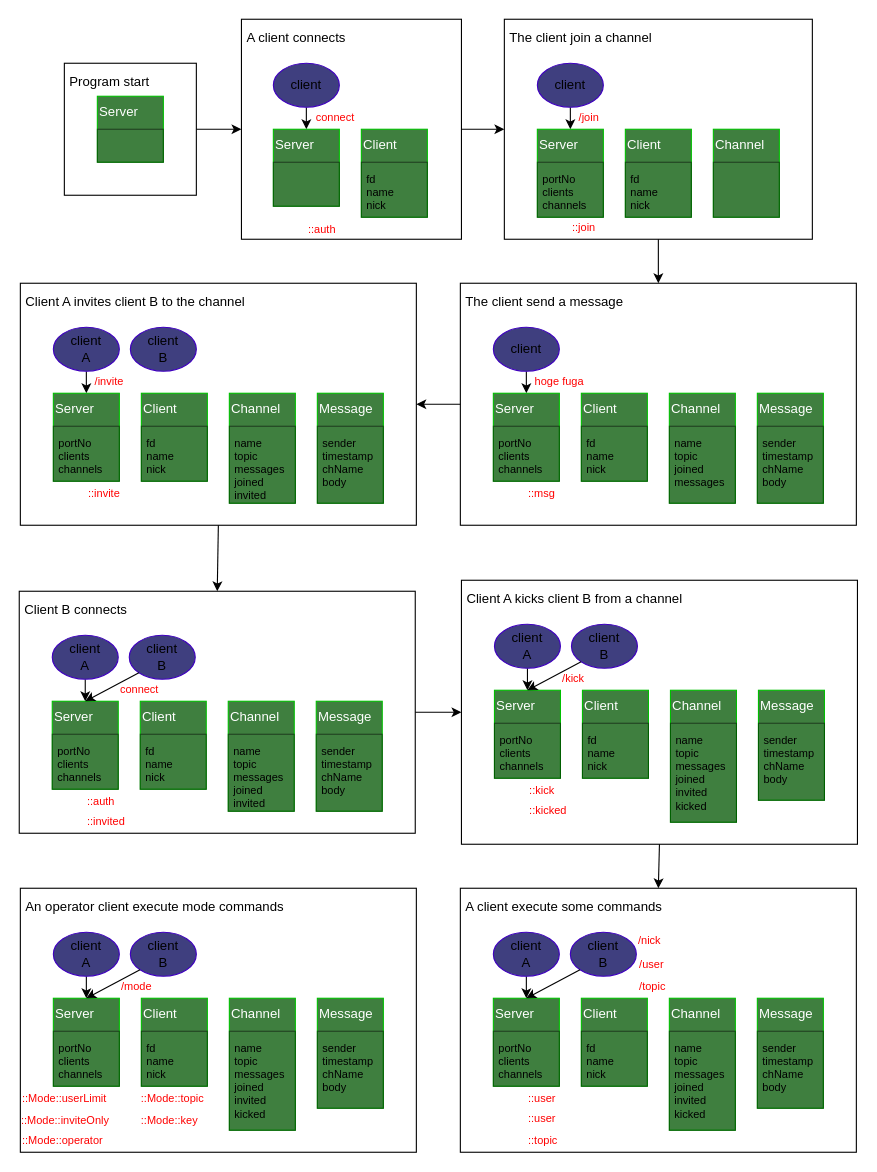
This 877x1172 diagram has some shape labels left out. The centre of each missing label's shape, as x and y in pixels:
"name topic joined" belongs at (x=745, y=189).
"portNo" belongs at (x=129, y=145).
"portNo clients" belongs at (x=305, y=183).
